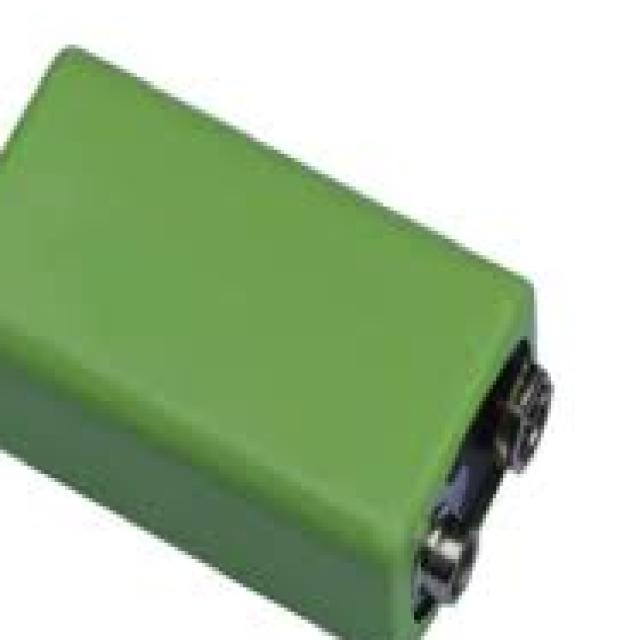organic: (8, 30, 593, 632)
